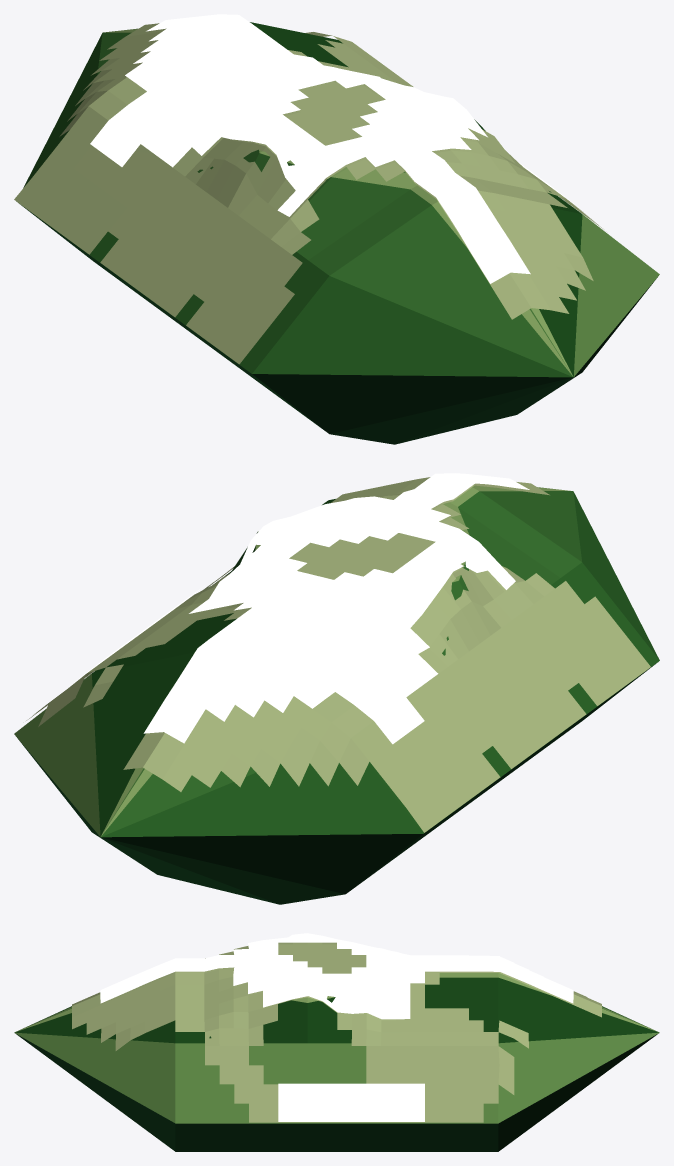
File: tyrian10-77.glb
The picture shows the model from 3 angles, top to bottom: view 1: azimuth 30°, elevation 25°; view 2: azimuth 150°, elevation 25°; view 3: azimuth 270°, elevation 25°; orthographic projection. The views are drawn at different scales.
Parts seen in each view (by area): view 1: tyrian10-77, tyrian10-77-glint-79, tyrian10-77-glint-81, tyrian10-77-glint-83, tyrian10-77-glint-87, tyrian10-77-glint-85; view 2: tyrian10-77, tyrian10-77-glint-79, tyrian10-77-glint-81, tyrian10-77-glint-83, tyrian10-77-glint-85, tyrian10-77-glint-87; view 3: tyrian10-77, tyrian10-77-glint-87, tyrian10-77-glint-85, tyrian10-77-glint-83, tyrian10-77-glint-79, tyrian10-77-glint-81.
Part boxes in pixels (box(x1,y1,x2,y2)): tyrian10-77: box(16, 22, 659, 444); tyrian10-77-glint-79: box(14, 14, 293, 254); tyrian10-77-glint-81: box(73, 32, 331, 317); tyrian10-77-glint-83: box(186, 36, 404, 364); tyrian10-77-glint-87: box(405, 129, 602, 319); tyrian10-77-glint-85: box(209, 67, 487, 363); tyrian10-77: box(14, 485, 659, 904); tyrian10-77-glint-79: box(123, 584, 500, 832); tyrian10-77-glint-81: box(83, 573, 586, 769); tyrian10-77-glint-83: box(29, 533, 650, 726); tyrian10-77-glint-85: box(31, 492, 650, 717); tyrian10-77-glint-87: box(113, 473, 549, 653); tyrian10-77: box(14, 973, 659, 1151); tyrian10-77-glint-87: box(72, 955, 394, 1122); tyrian10-77-glint-85: box(218, 938, 483, 1122); tyrian10-77-glint-83: box(205, 933, 514, 1122); tyrian10-77-glint-79: box(366, 945, 601, 1017); tyrian10-77-glint-81: box(322, 939, 528, 1048).
Size of the model in its own units: 0.9285 by 0.521 by 1.83.
